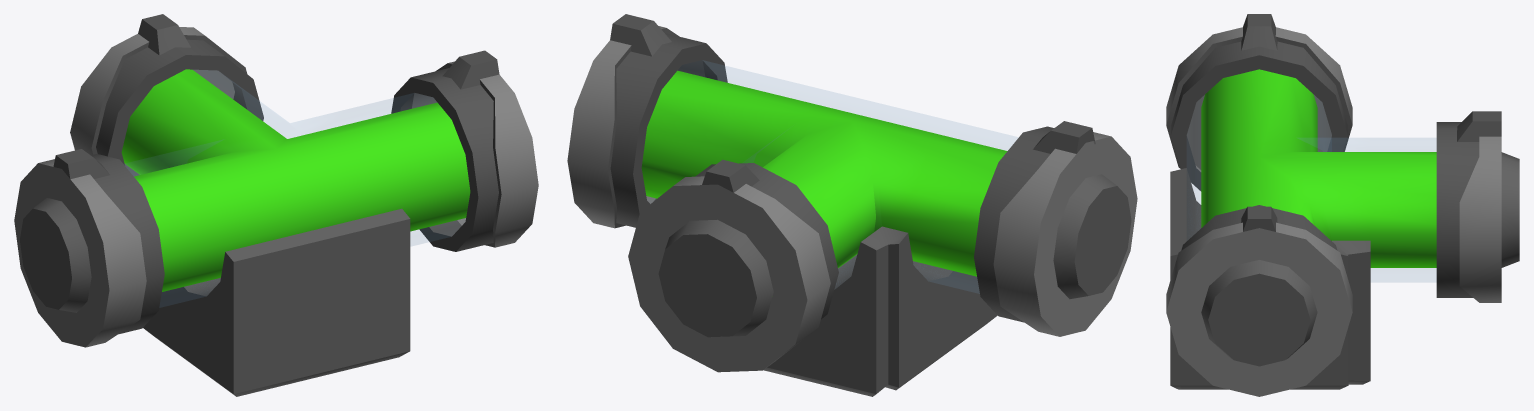
Rendered from Liquid_Green_Pipe_3_Way.fbx.
3 renders of one model, left to right at view 1: azimuth 30°, elevation 25°; view 2: azimuth 150°, elevation 25°; view 3: azimuth 270°, elevation 25°, orthographic. The views are drawn at different scales.
Parts seen in each view (by area): view 1: Liquid_Green_Pipe_3_Way; view 2: Liquid_Green_Pipe_3_Way; view 3: Liquid_Green_Pipe_3_Way.
Part boxes in pixels (x1,y1,x2,y2): Liquid_Green_Pipe_3_Way: [14, 14, 538, 396]; Liquid_Green_Pipe_3_Way: [567, 14, 1137, 396]; Liquid_Green_Pipe_3_Way: [1166, 14, 1519, 396].
Bounding box in the file's own units: 215 × 107 × 146.
